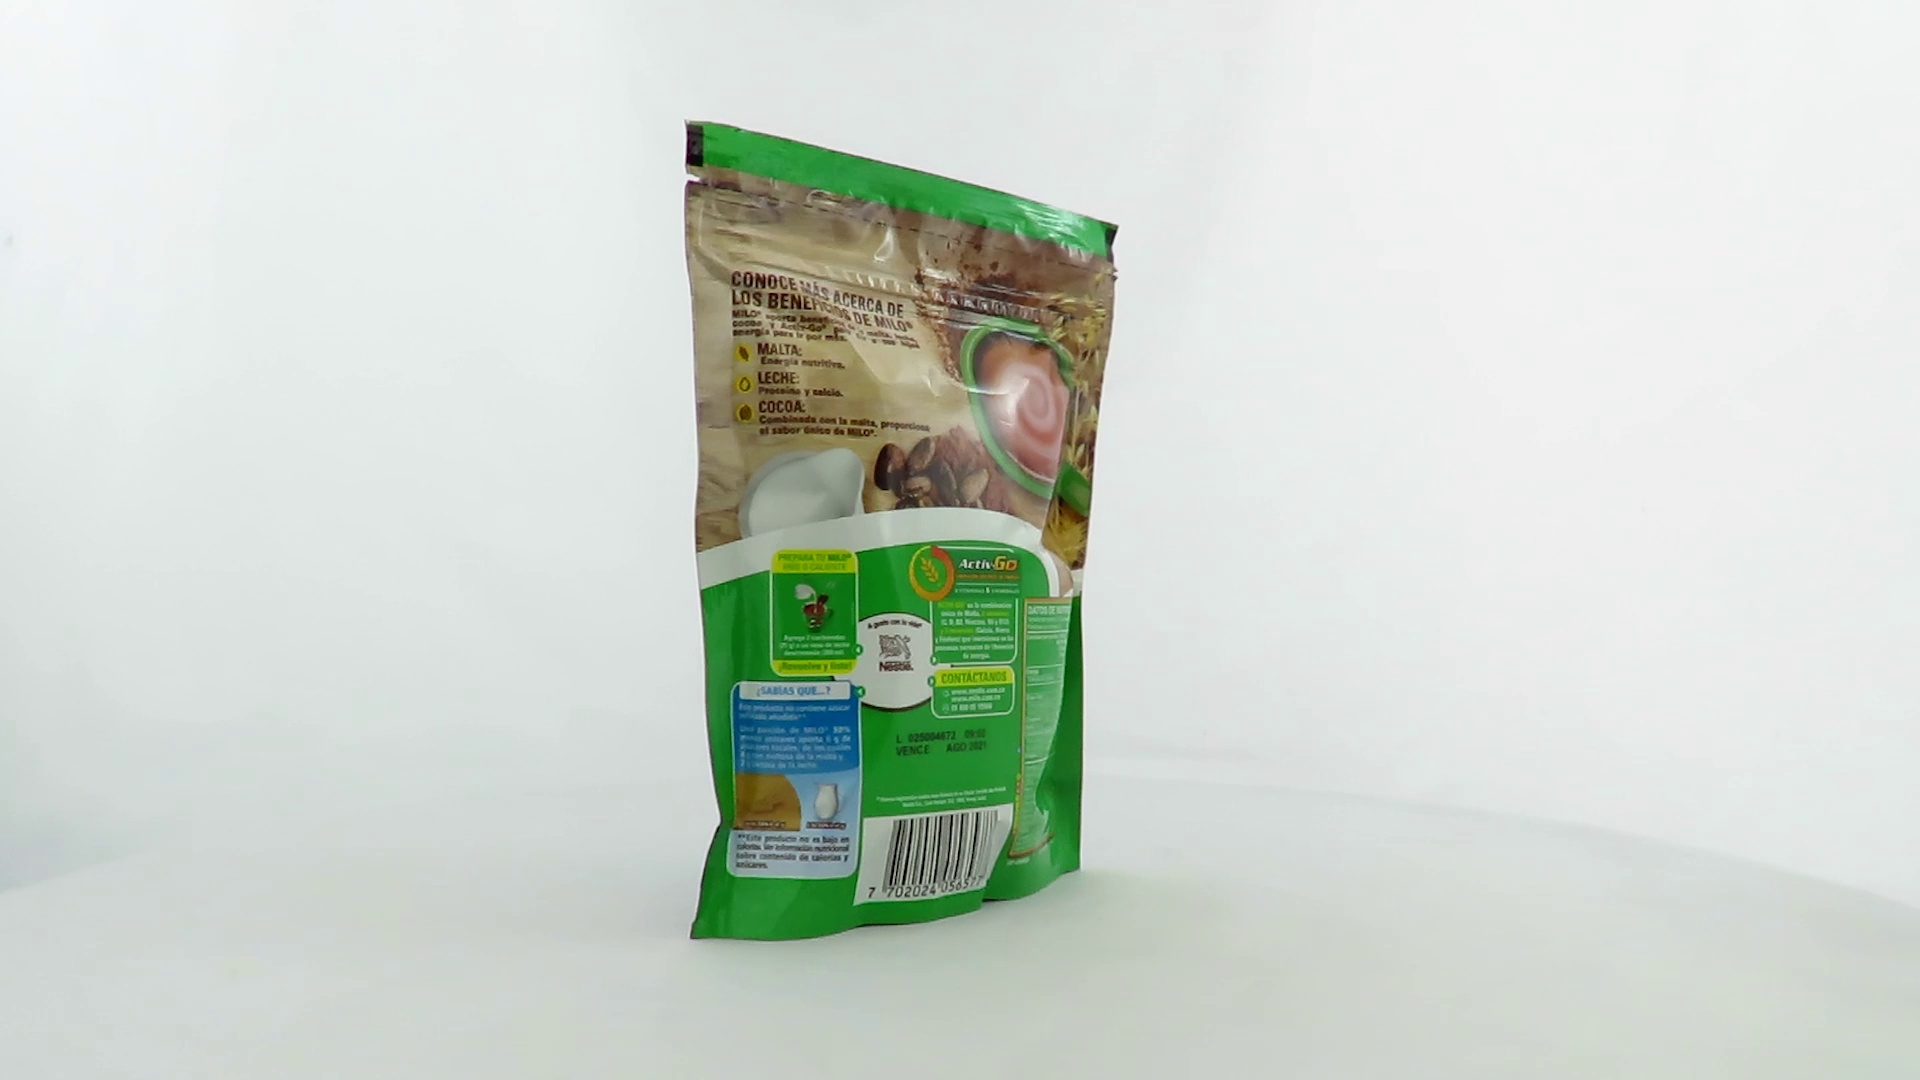COL0170205DYP20000: (679, 113, 1125, 948)
